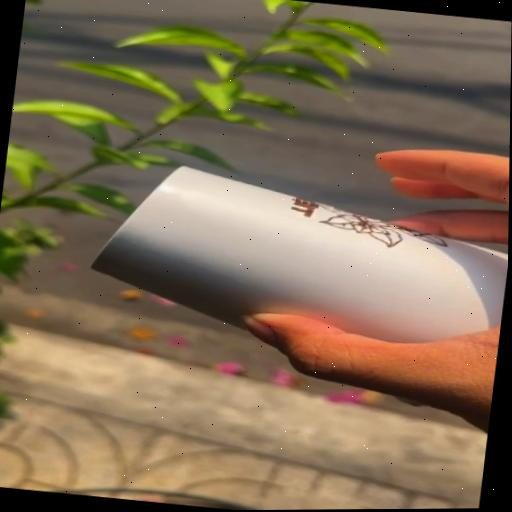Ly_giay: (93, 167, 508, 343)
